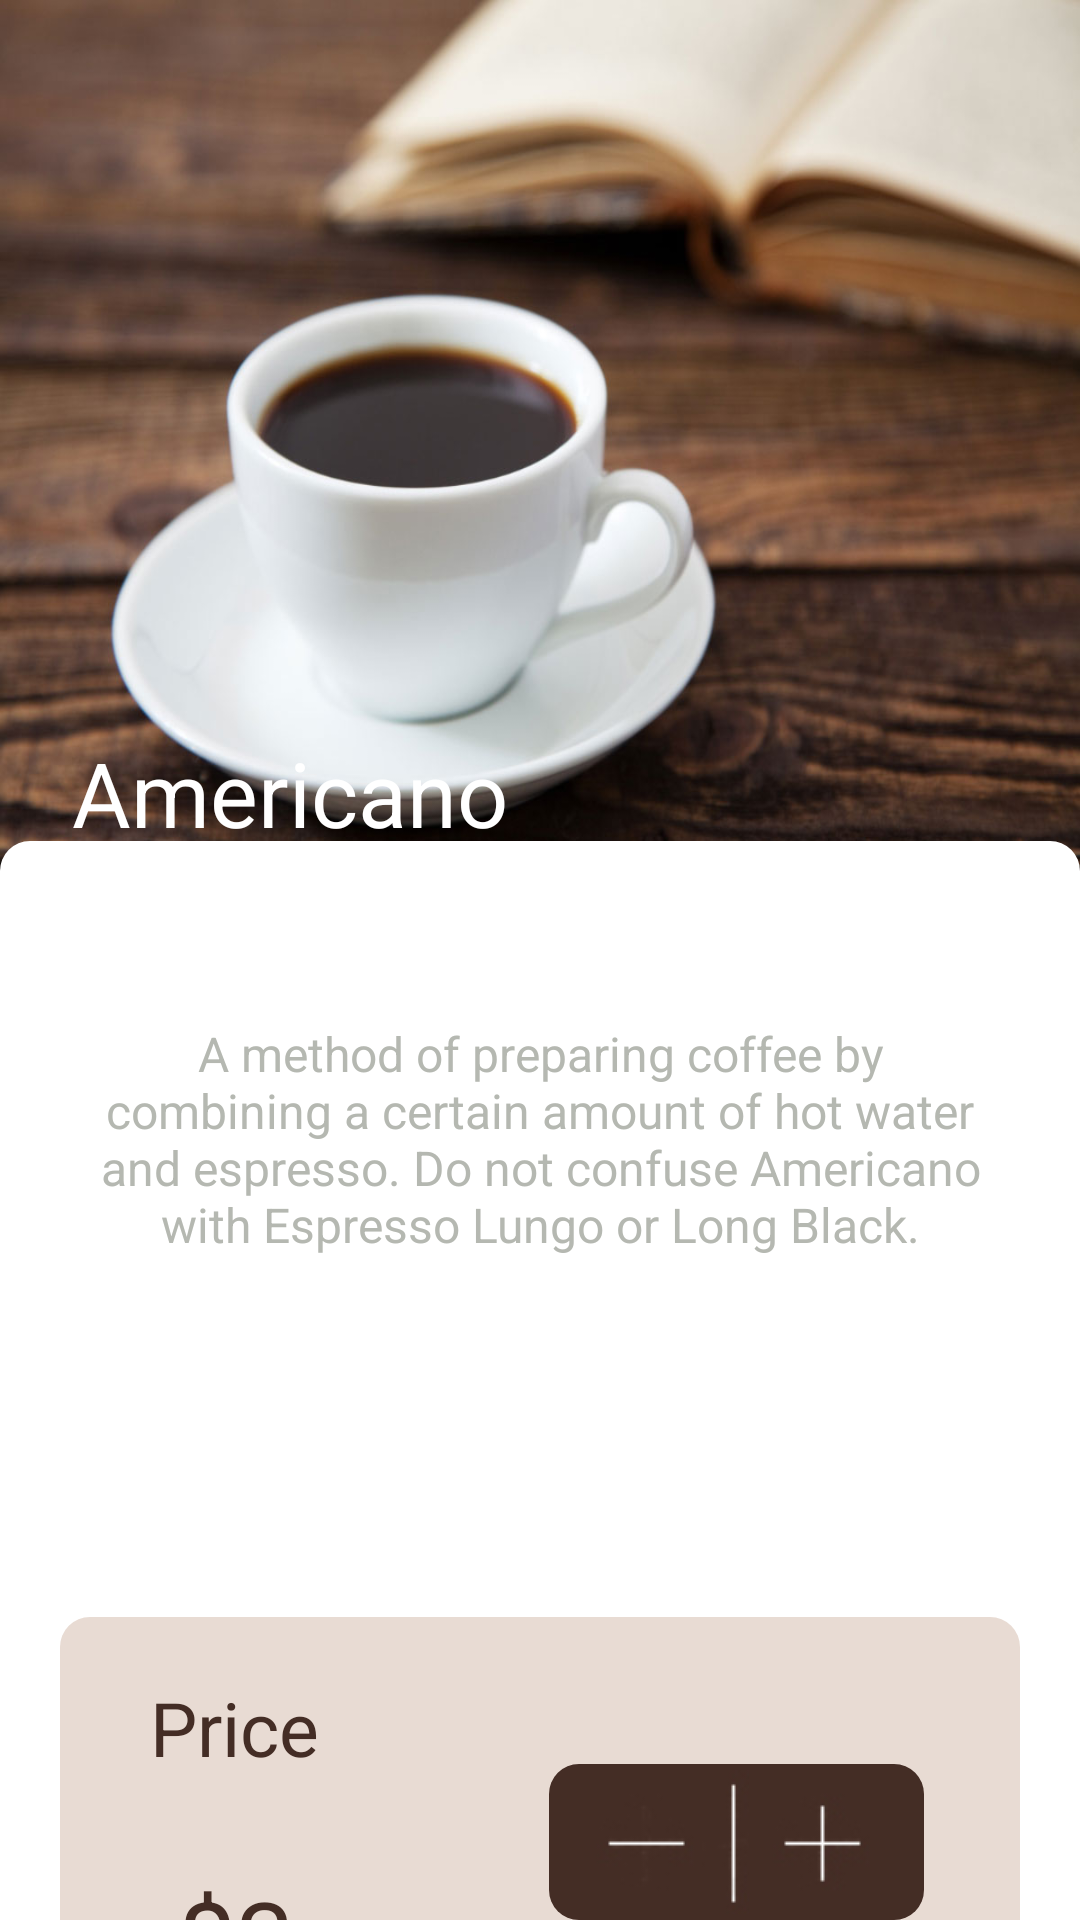

Icon bounding boxes for this 1080 × 1920 phone screenshot, format BBox(x1, y1, x2, y2):
plus: BBox(784, 1805, 861, 1882)
